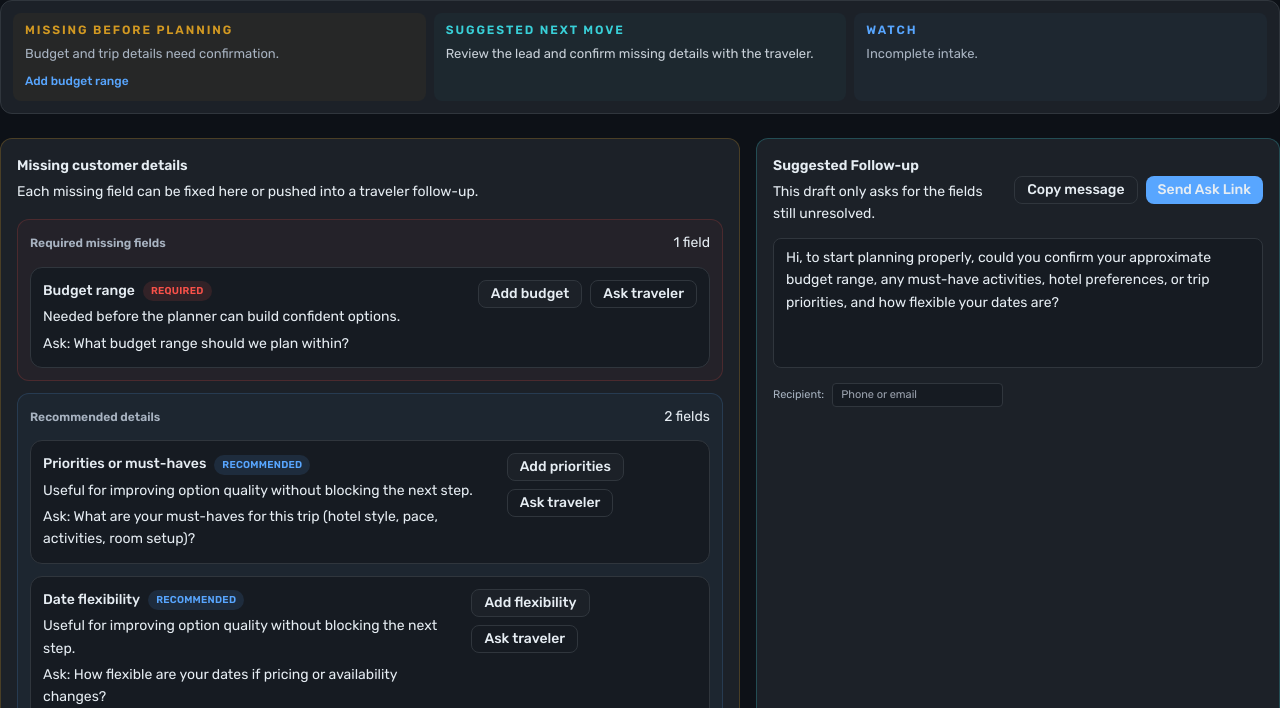
Test case: IntakePanel › opens an inline editor for a missing planning detail
The width and height of the screenshot is (1280, 708).
What coordinates should you click on to do the following:
click the button "Add budget range"
I would click on:
 (77, 82)
Its box is [25,72,129,91].
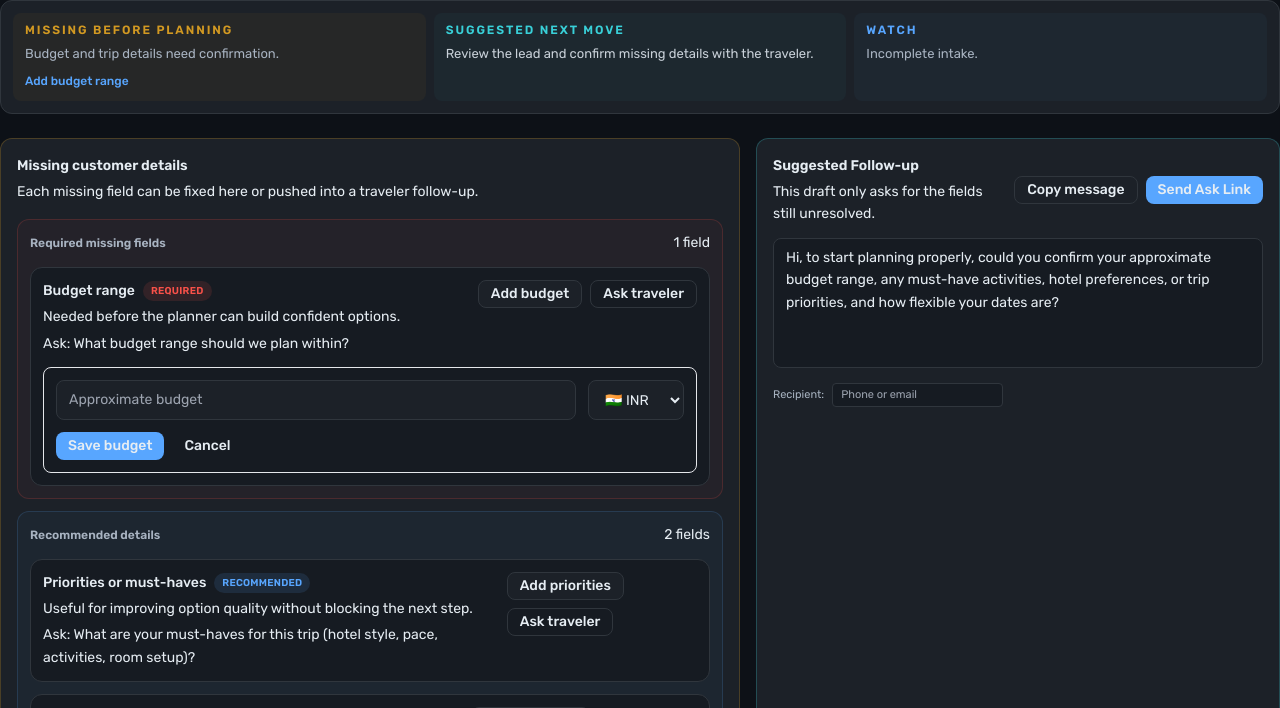
Now the number field with placeholder "Approximate budget" is shown, box [56,380,576,420]
Now the button "Save budget" is shown, box [56,432,164,460]
